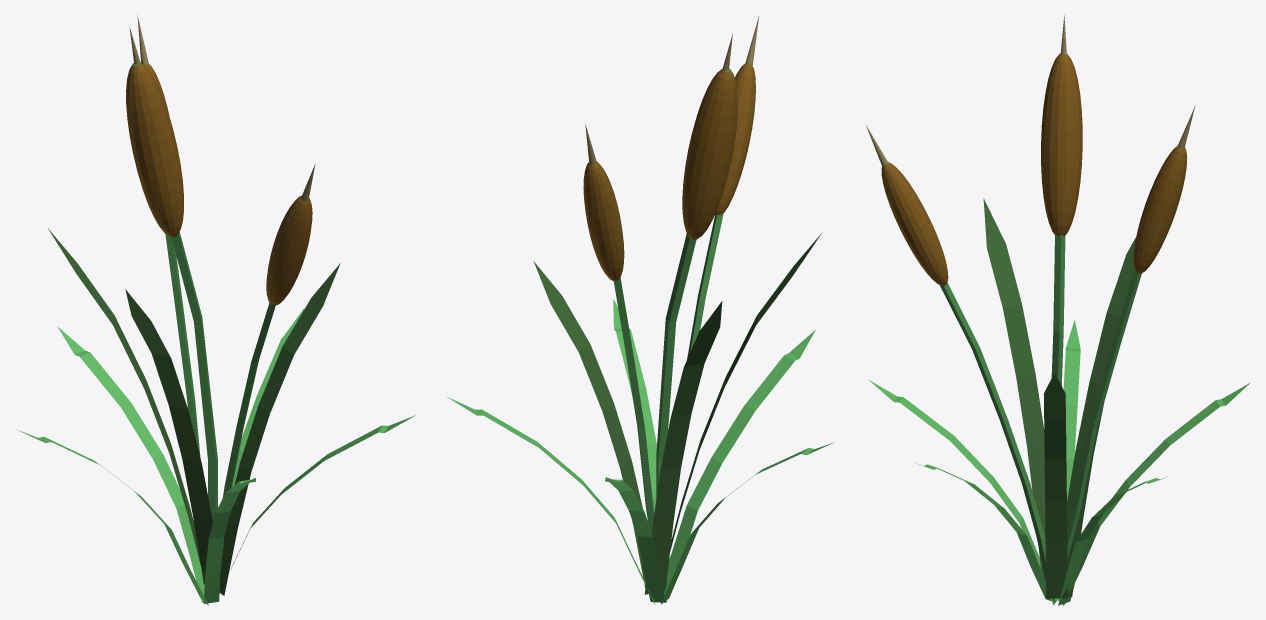
File: Bulrush.glb
3 renders of one model, left to right at view 1: azimuth 30°, elevation 25°; view 2: azimuth 150°, elevation 25°; view 3: azimuth 270°, elevation 25°, orthographic. The views are drawn at different scales.
Parts seen in each view (by area): view 1: Plane, Sphere, Plane.007, Cylinder.002, Cylinder.001; view 2: Plane, Sphere, Plane.007, Cylinder.001, Cylinder.002; view 3: Plane, Sphere, Plane.007, Cylinder.002, Cylinder.001.
Part boxes in pixels (x1,y1,x2,y2): Plane: (48, 228, 340, 595); Sphere: (126, 27, 217, 596); Plane.007: (16, 308, 415, 605); Cylinder.002: (211, 164, 315, 596); Cylinder.001: (137, 14, 200, 456); Plane: (533, 232, 822, 594); Sphere: (656, 33, 737, 591); Plane.007: (446, 299, 834, 604); Cylinder.001: (583, 124, 665, 589); Cylinder.002: (687, 15, 759, 359); Plane: (983, 198, 1136, 598); Sphere: (1041, 15, 1082, 385); Plane.007: (868, 320, 1250, 605); Cylinder.002: (866, 125, 1045, 579); Cylinder.001: (1067, 105, 1195, 558).
Bounding box in the file's own units: 3.47 × 5.75 × 3.63.
4 materials, 4 textured.
